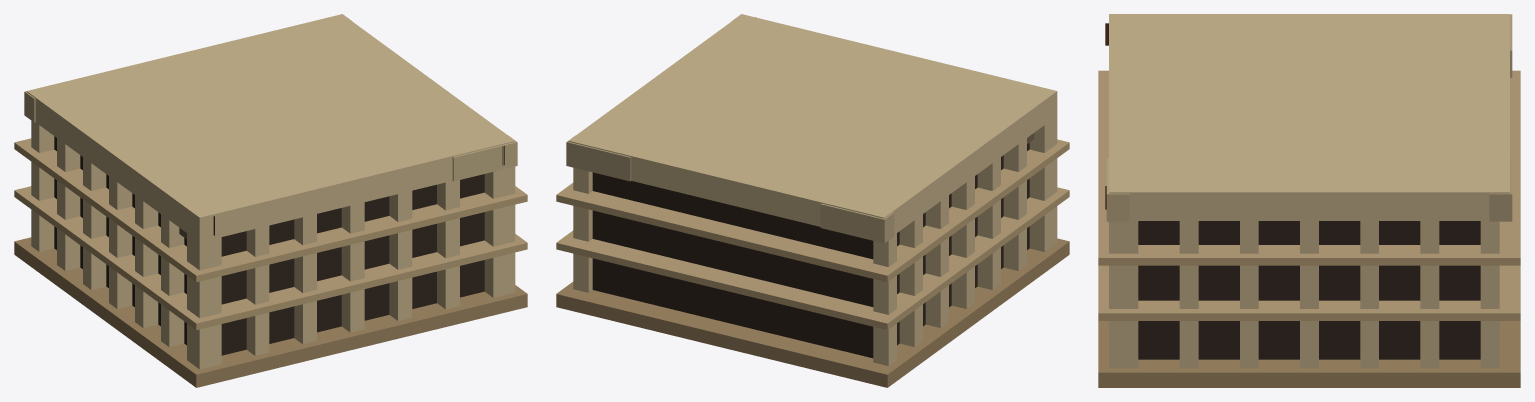
Rendered from ColosseumSil.fbx.
3 renders of one model, left to right at view 1: azimuth 30°, elevation 25°; view 2: azimuth 150°, elevation 25°; view 3: azimuth 270°, elevation 25°, orthographic. The views are drawn at different scales.
Visible parts, largest first — view 1: CO_S_All; view 2: CO_S_All; view 3: CO_S_All.
Boxes of the visible parts, x1,y1,x2,y2 form: CO_S_All: (14,14,527,387); CO_S_All: (556,14,1069,387); CO_S_All: (1098,14,1520,387).
Size of the model in its own units: 42.04 by 20 by 40.04.
